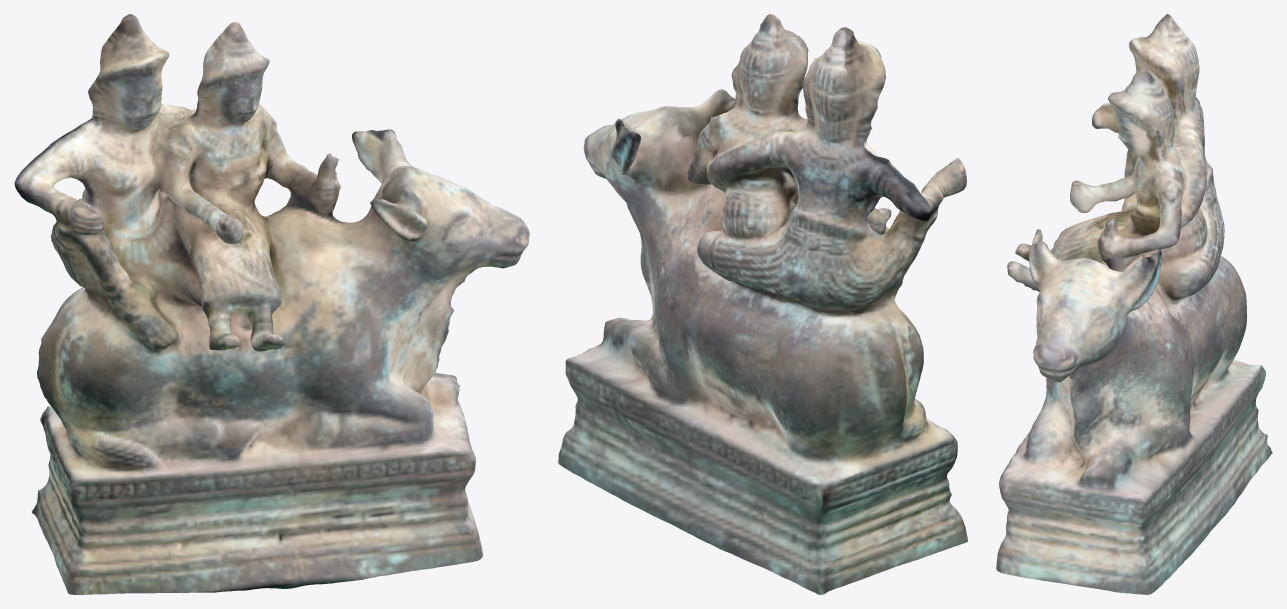
Rendered from khmer_casting_siva_and_uma.glb.
The picture shows the model from 3 angles, left to right: view 1: azimuth 30°, elevation 25°; view 2: azimuth 150°, elevation 25°; view 3: azimuth 270°, elevation 25°; orthographic projection. The views are drawn at different scales.
Parts seen in each view (by area): view 1: Object_2; view 2: Object_2; view 3: Object_2.
Boxes of the visible parts, left/top/right/bottom form: Object_2: left=14, top=14, right=529, bottom=594; Object_2: left=558, top=14, right=967, bottom=594; Object_2: left=996, top=14, right=1272, bottom=594.
Size of the model in its own units: 0.1256 by 0.1478 by 0.0819.
Materials: 1 (1 with a texture image).
